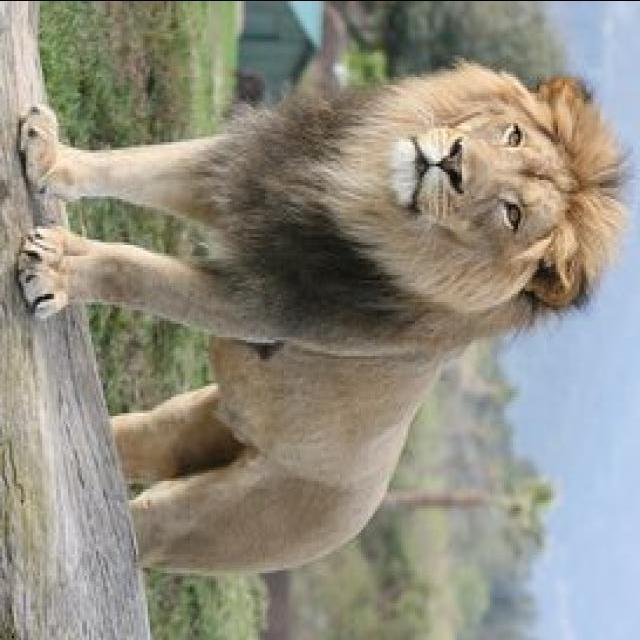lions: (3, 37, 640, 640)
